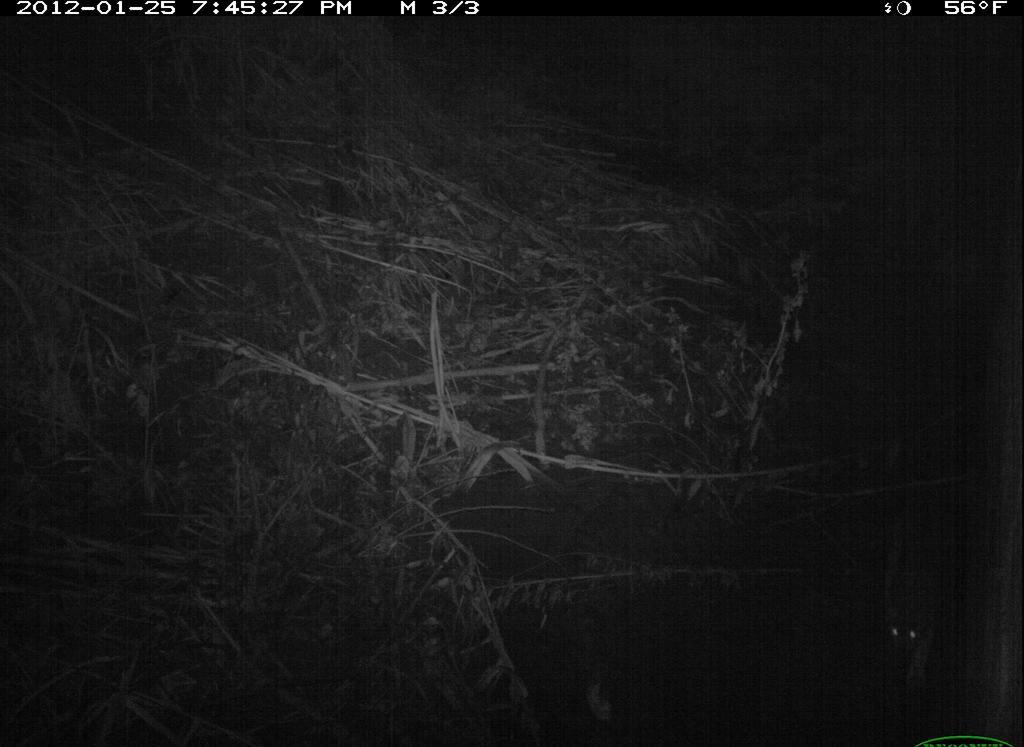bobcat: (868, 414, 962, 692)
